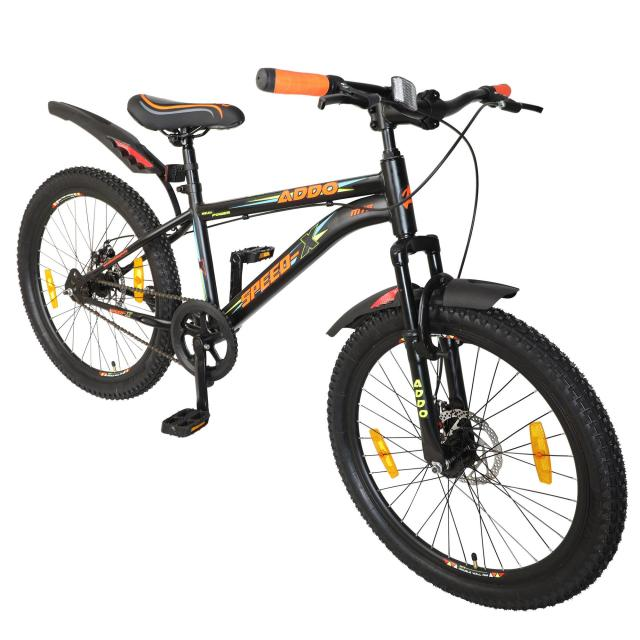bicycle: (18, 69, 626, 609)
